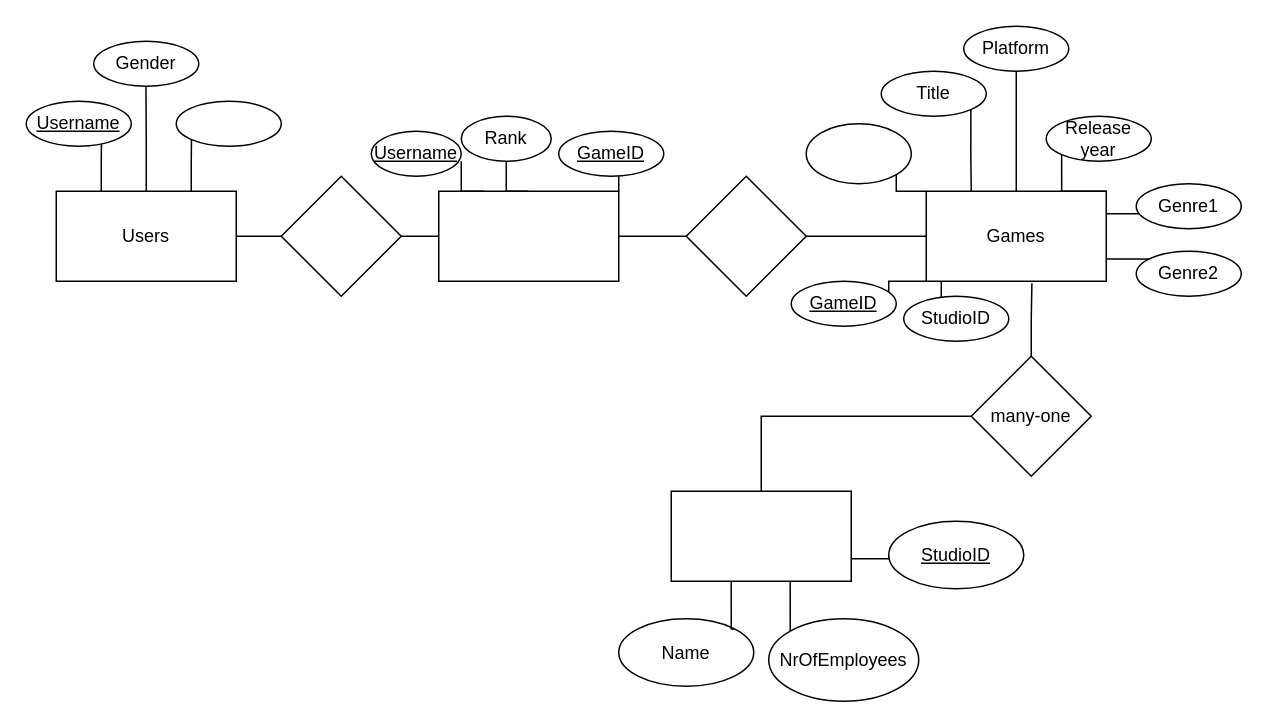
The diagram is 1268 pixels wide and 728 high, and some of its shapes have lost their labels. The box of each missing label's shape, as (x1, y1, x2, y2) in pixels:
Age: (175, 100, 281, 146)
one-many: (280, 175, 401, 296)
one-one: (685, 175, 806, 296)
Sold copies: (805, 122, 911, 184)
Studios: (670, 490, 851, 581)
User ranks: (437, 190, 619, 281)
